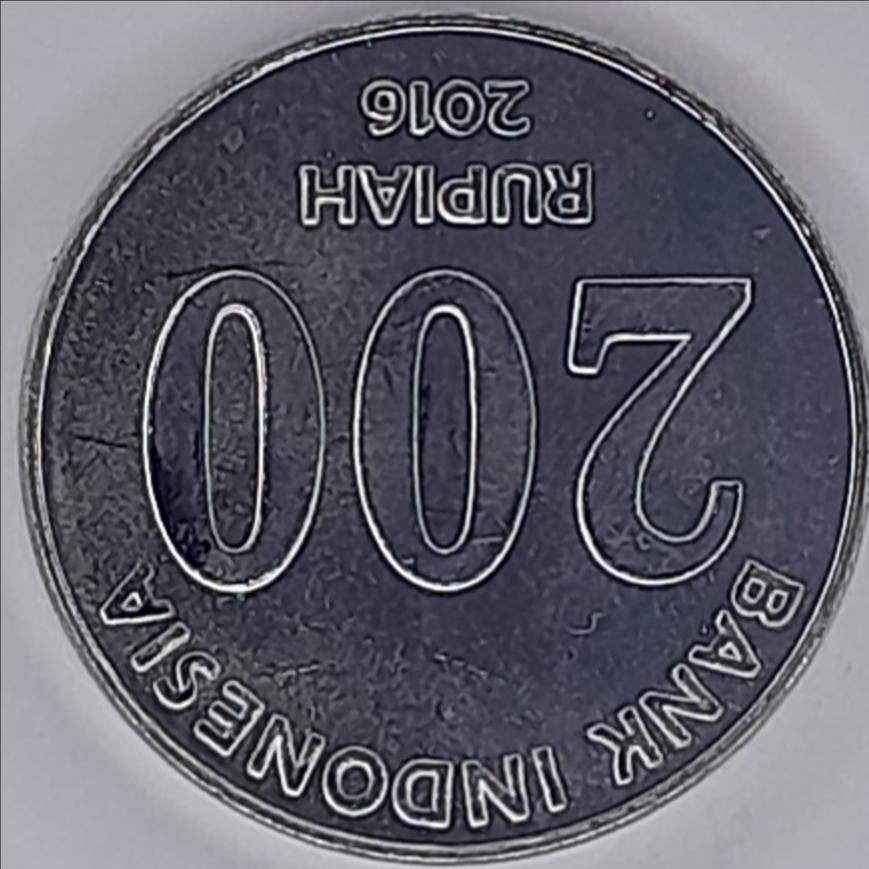coin_200_e2016: (0, 15, 869, 869)
